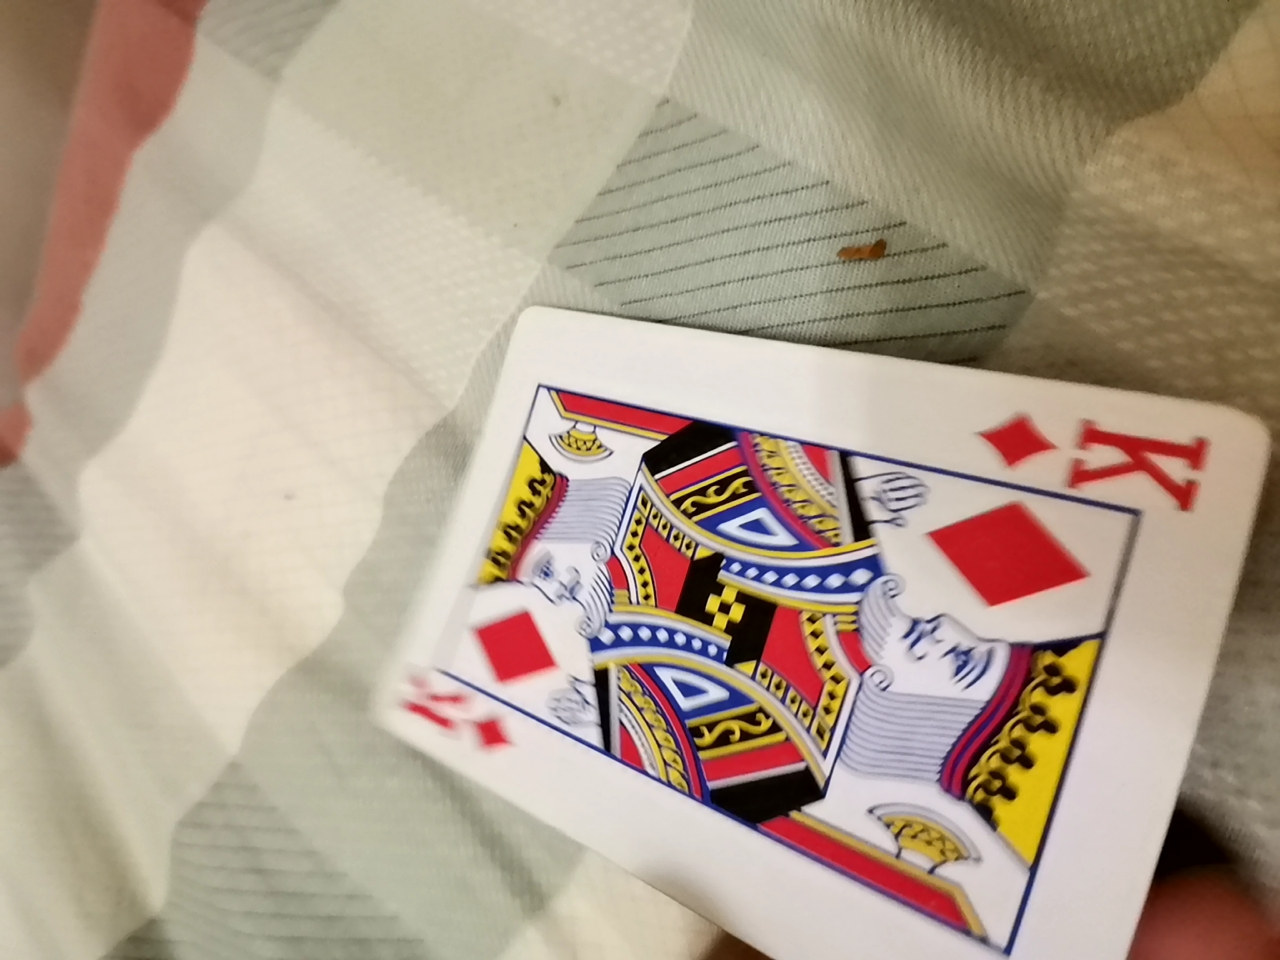fk k: (364, 287, 1258, 958)
